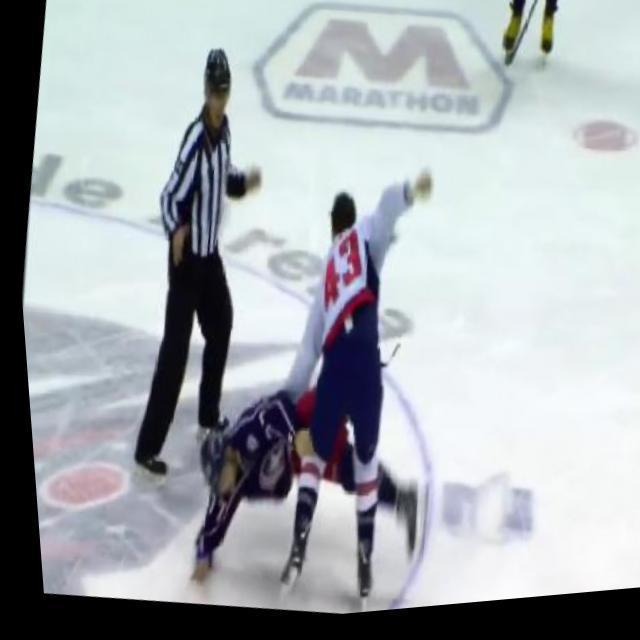fight: (215, 145, 470, 624)
non-fight: (156, 34, 256, 441)
